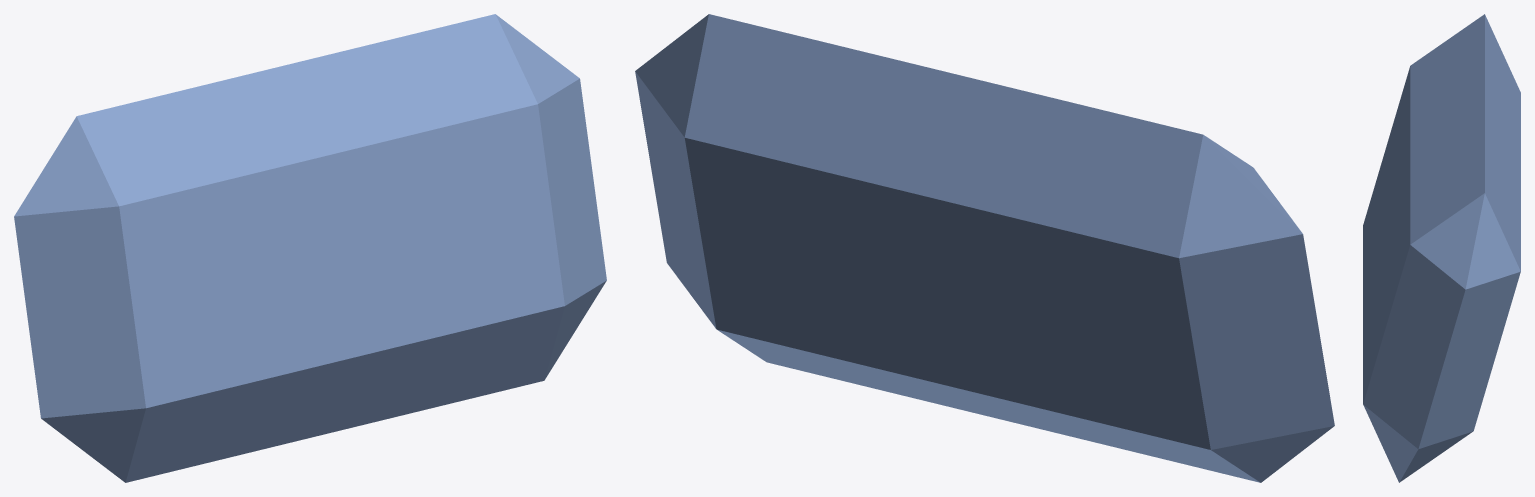
File: pillowBlue.glb
3 renders of one model, left to right at view 1: azimuth 30°, elevation 25°; view 2: azimuth 150°, elevation 25°; view 3: azimuth 270°, elevation 25°, orthographic. The views are drawn at different scales.
Visible parts, largest first — view 1: pillowBlue; view 2: pillowBlue; view 3: pillowBlue.
Part boxes in pixels (bbox=[...]): pillowBlue: bbox=[14, 14, 606, 482]; pillowBlue: bbox=[635, 14, 1334, 482]; pillowBlue: bbox=[1363, 14, 1520, 482].
Size of the model in its own units: 0.23 by 0.1285 by 0.0634.
